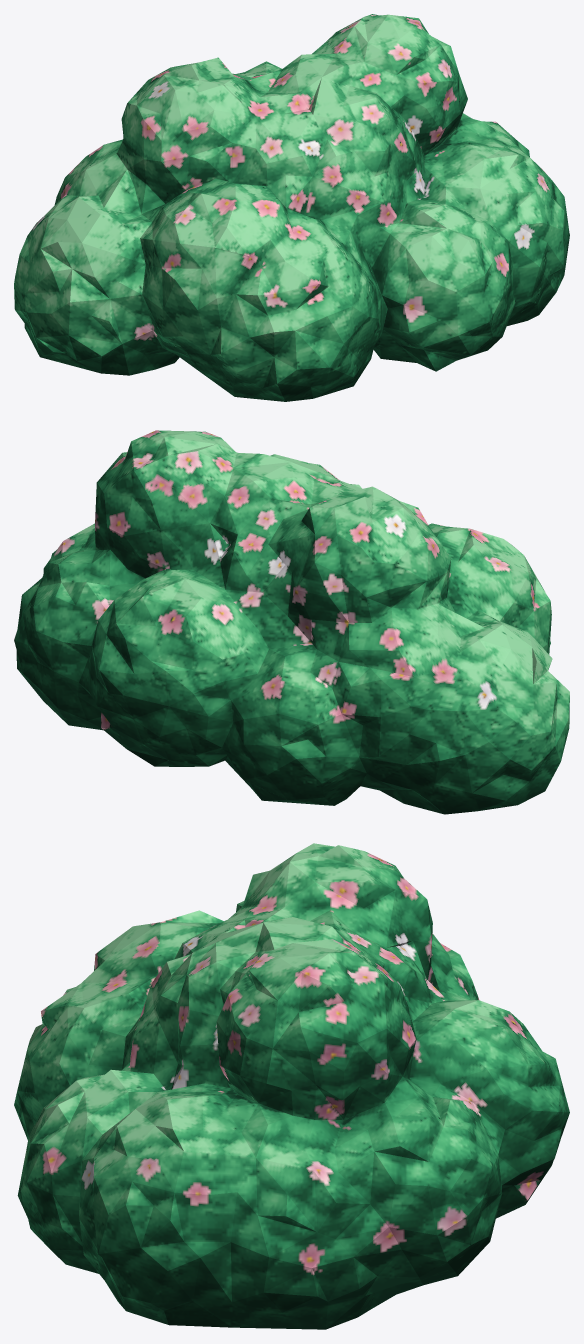
File: flowering_shrub.glb
The picture shows the model from 3 angles, top to bottom: view 1: azimuth 30°, elevation 25°; view 2: azimuth 150°, elevation 25°; view 3: azimuth 270°, elevation 25°; orthographic projection. The views are drawn at different scales.
Parts seen in each view (by area): view 1: flowering_shrub; view 2: flowering_shrub; view 3: flowering_shrub.
Part boxes in pixels (bbox=[...]): flowering_shrub: bbox=[14, 14, 569, 401]; flowering_shrub: bbox=[14, 430, 569, 814]; flowering_shrub: bbox=[14, 843, 569, 1329].
Size of the model in its own units: 1.52 by 0.7573 by 1.2.
1 material, 1 textured.
